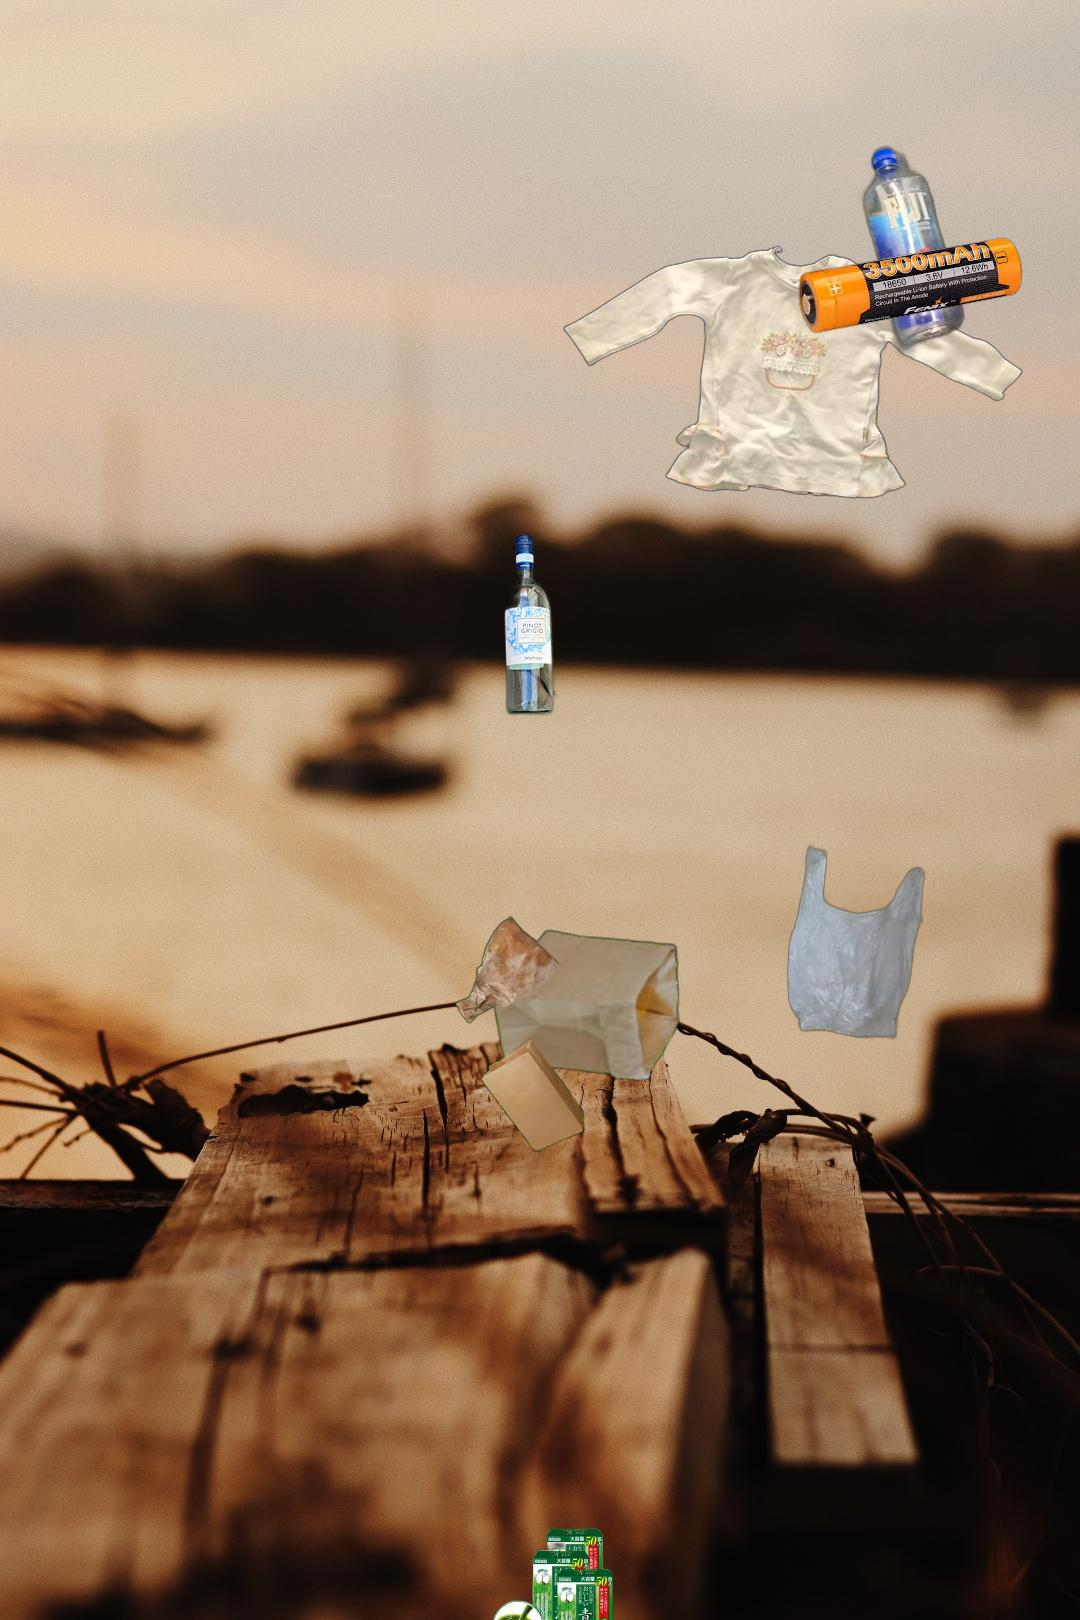battery: (798, 235, 1023, 336), (459, 1505, 616, 1620)
clothes: (559, 243, 1026, 501)
glass: (499, 272, 773, 721)
paper-bag: (452, 915, 682, 1154)
plastic-bag: (786, 843, 927, 1041)
plastic-bottles: (857, 140, 968, 365)
